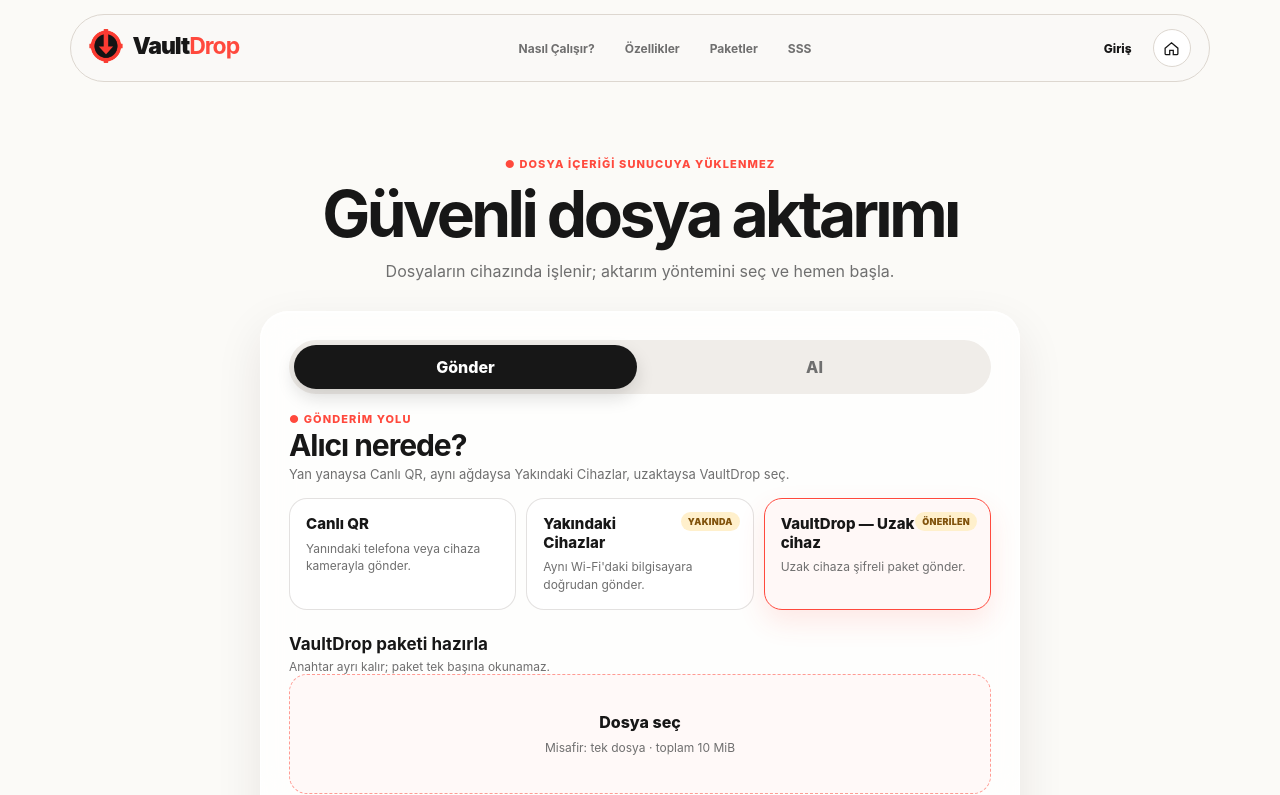
Test: TransferPage navbar › gönder ve al için üç yöntemli karar ekranlarını gösterir
Check: the heading "Alıcı nerede?" is shown, box [289, 427, 466, 463]
Check: the button "VaultDrop — Uzak cihaz" is shown, box [764, 498, 991, 610]
Click the button "Al": [814, 367] box [643, 345, 986, 389]
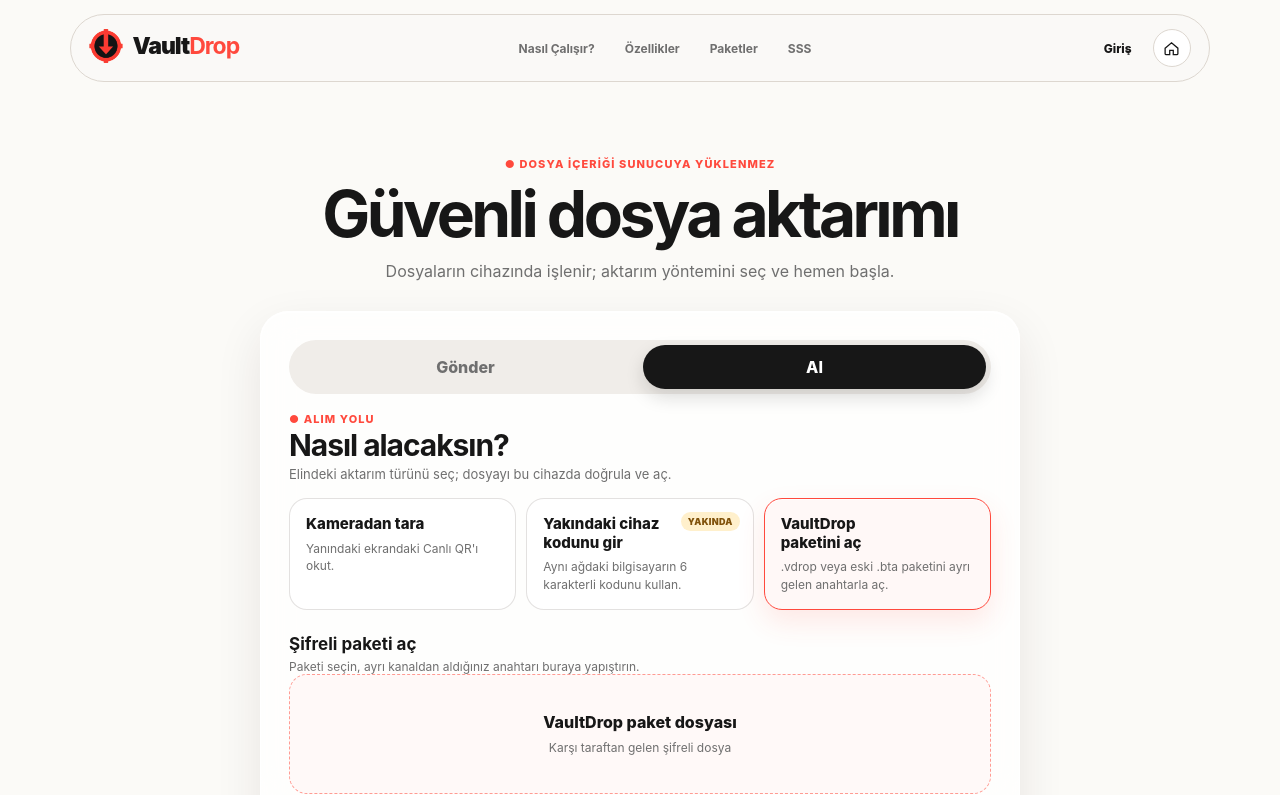
Check: the heading "Nasıl alacaksın?" is shown, box [289, 427, 509, 463]
Check: the button "Kameradan tara Yanındaki ekrandaki Canlı QR'ı okut." is shown, box [289, 498, 516, 610]
Check: the button "Yakındaki cihaz kodunu gir" is shown, box [526, 498, 754, 610]
